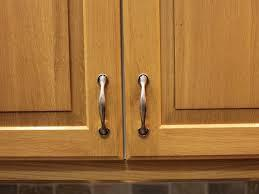cabinet_door: (118, 10, 259, 155), (8, 6, 122, 157)
handle: (94, 71, 111, 142), (135, 74, 153, 132)
